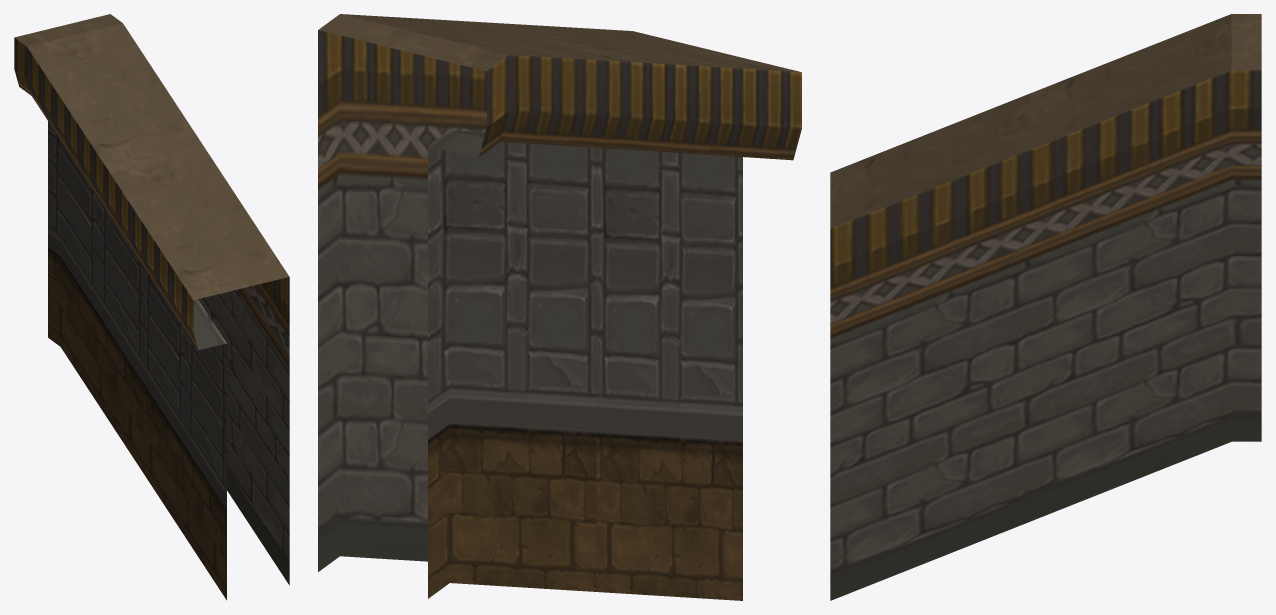
The model's file is Battle06_Wall_010.FBX.
3 views of the same model, side by side, from view 1: azimuth 30°, elevation 25°; view 2: azimuth 150°, elevation 25°; view 3: azimuth 270°, elevation 25° (orthographic). The views are drawn at different scales.
Visible parts, largest first — view 1: Battle06_Wall_010; view 2: Battle06_Wall_010; view 3: Battle06_Wall_010.
Part boxes in pixels (x1,y1,x2,y2): Battle06_Wall_010: (14,14,289,600); Battle06_Wall_010: (318,14,801,600); Battle06_Wall_010: (830,14,1261,600).
Size of the model in its own units: 3.02 by 13.22 by 9.75.
